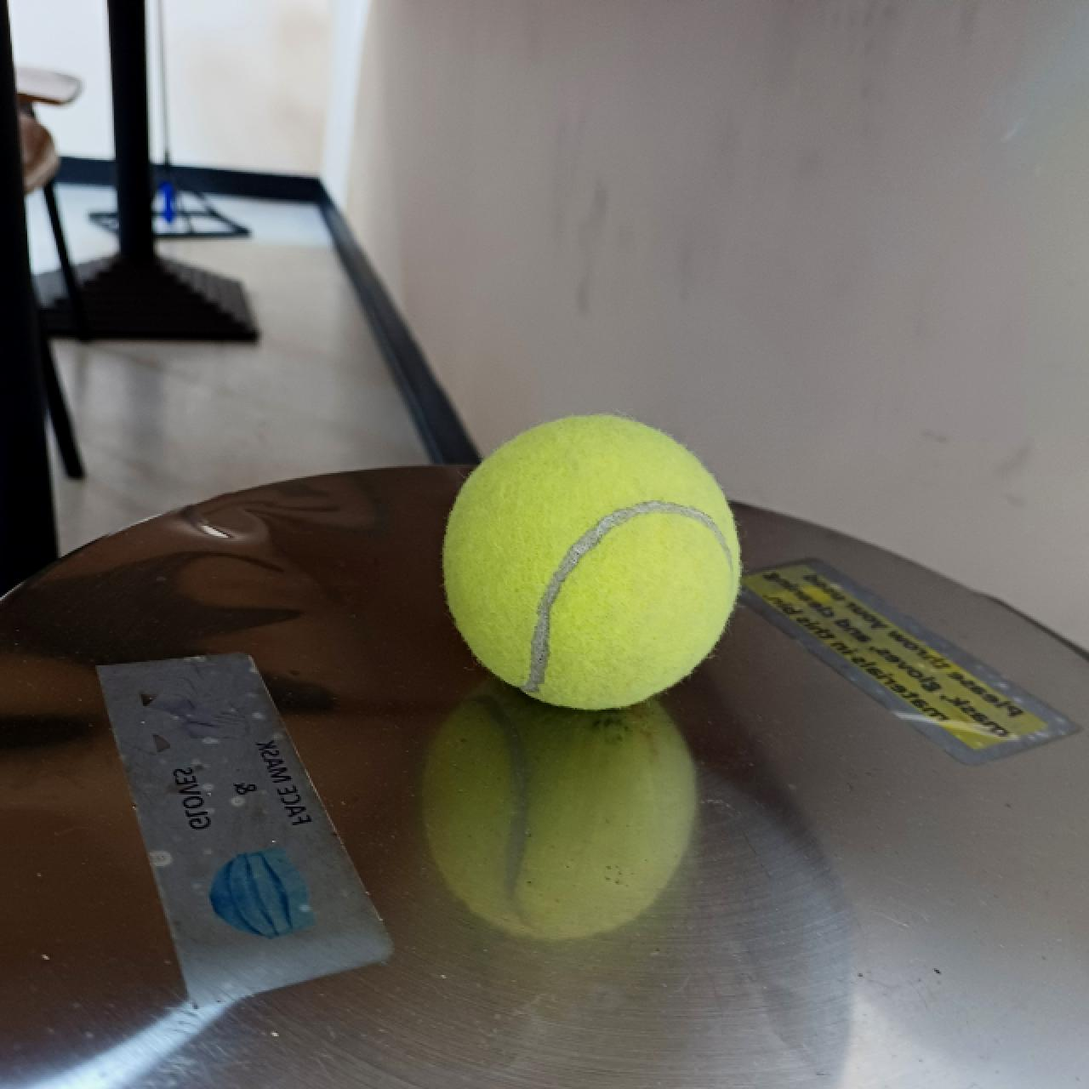tennis-ball: (441, 413, 742, 710)
